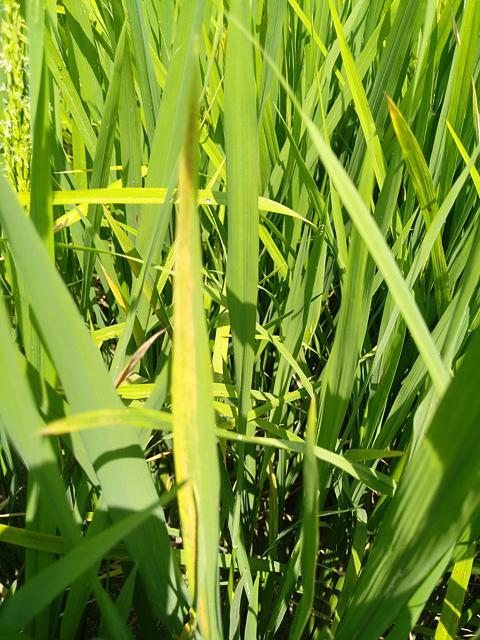Leaf Streak: (172, 156, 218, 639), (385, 97, 425, 174)
